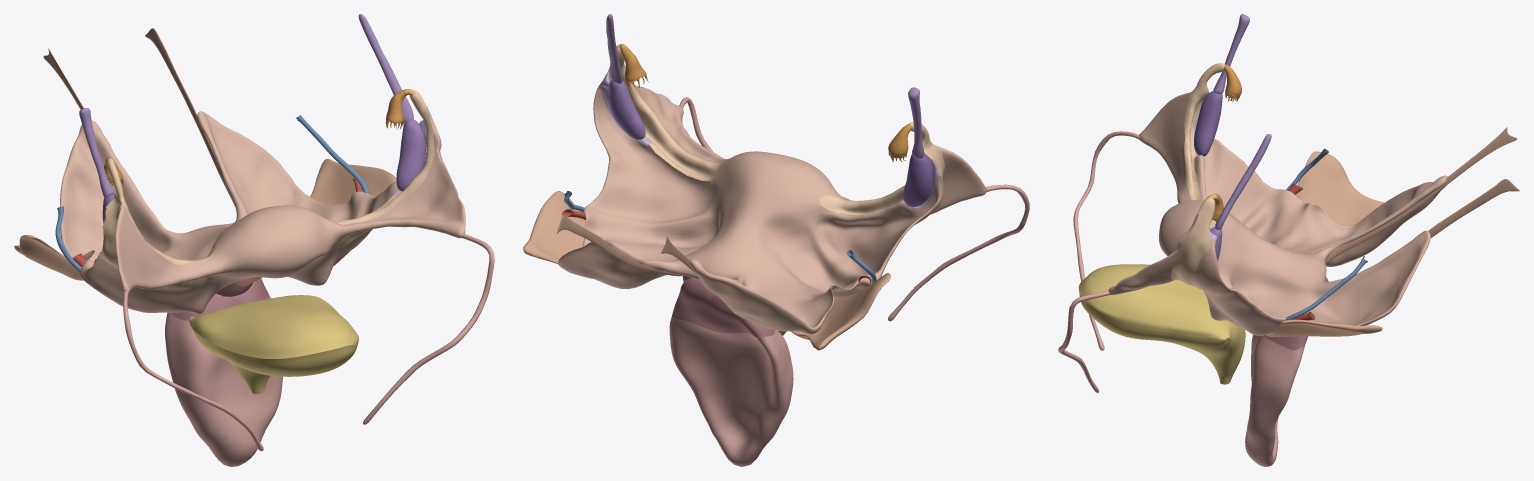
Rendered from reproductive.glb.
The picture shows the model from 3 angles, left to right: view 1: azimuth 30°, elevation 25°; view 2: azimuth 150°, elevation 25°; view 3: azimuth 270°, elevation 25°; orthographic projection. The views are drawn at different scales.
Parts seen in each view (by area): view 1: broad-ligament, bladder, vagina, cardinal-ligaments, mesosalpinx, round-ligaments, suspensory-ligaments, left-ovary, uterosacral-ligaments, cervicovaginal-junction, uterine-veins, infundibulum; view 2: broad-ligament, vagina, cardinal-ligaments, mesosalpinx, cervicovaginal-junction, round-ligaments, uterosacral-ligaments, suspensory-ligaments, left-ovary, right-ovary, infundibulum, mesovarium; view 3: broad-ligament, bladder, cardinal-ligaments, vagina, mesosalpinx, uterosacral-ligaments, round-ligaments, suspensory-ligaments, right-ovary, uterine-veins, infundibulum.
Boxes of the visible parts, <box> form: broad-ligament: <box>60,107,465,314</box>; bladder: <box>189,295,358,393</box>; vagina: <box>165,295,282,466</box>; cardinal-ligaments: <box>14,159,396,280</box>; mesosalpinx: <box>102,90,434,276</box>; round-ligaments: <box>123,234,494,451</box>; suspensory-ligaments: <box>79,14,413,197</box>; left-ovary: <box>396,119,425,191</box>; uterosacral-ligaments: <box>43,28,235,207</box>; cervicovaginal-junction: <box>172,278,269,320</box>; uterine-veins: <box>55,114,369,271</box>; infundibulum: <box>104,89,406,181</box>; broad-ligament: <box>558,79,987,334</box>; vagina: <box>669,316,793,466</box>; cardinal-ligaments: <box>523,191,890,350</box>; mesosalpinx: <box>607,44,944,215</box>; cervicovaginal-junction: <box>672,278,775,337</box>; round-ligaments: <box>679,97,1029,321</box>; uterosacral-ligaments: <box>556,215,695,276</box>; suspensory-ligaments: <box>606,14,924,158</box>; left-ovary: <box>609,80,645,139</box>; right-ovary: <box>903,153,932,206</box>; infundibulum: <box>621,46,912,157</box>; mesovarium: <box>600,72,940,208</box>; broad-ligament: <box>1108,92,1447,336</box>; bladder: <box>1078,264,1245,384</box>; cardinal-ligaments: <box>1265,151,1384,336</box>; vagina: <box>1245,335,1304,466</box>; mesosalpinx: <box>1170,63,1224,287</box>; uterosacral-ligaments: <box>1325,127,1519,263</box>; round-ligaments: <box>1058,131,1139,392</box>; suspensory-ligaments: <box>1213,14,1271,229</box>; right-ovary: <box>1194,91,1222,156</box>; uterine-veins: <box>1285,148,1368,320</box>; infundibulum: <box>1212,64,1241,219</box>.
Bounding box in the file's own units: 2.35 × 2.54 × 2.73.
